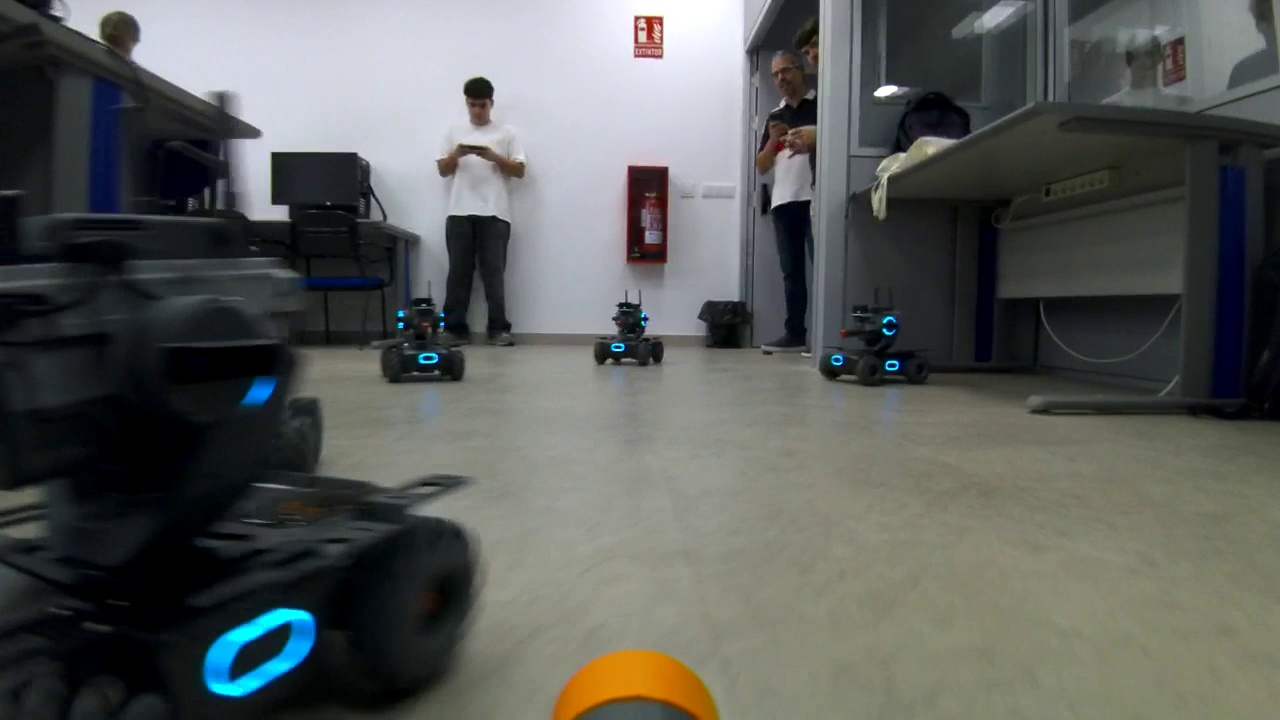robot: (808, 285, 942, 387), (379, 278, 477, 386), (589, 287, 681, 375)
